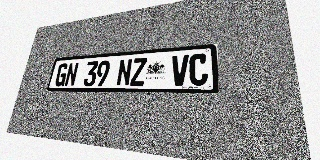3: (83, 61, 99, 86)
9: (95, 60, 111, 86)
C: (189, 53, 208, 86)
G: (54, 63, 69, 87)
N: (116, 59, 133, 86), (64, 62, 79, 86)
V: (171, 55, 189, 86)
Z: (130, 58, 147, 86)
